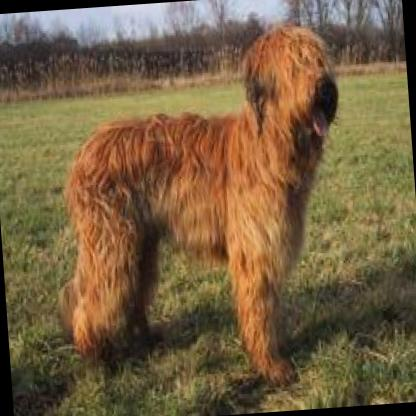briard: (49, 23, 360, 394)
